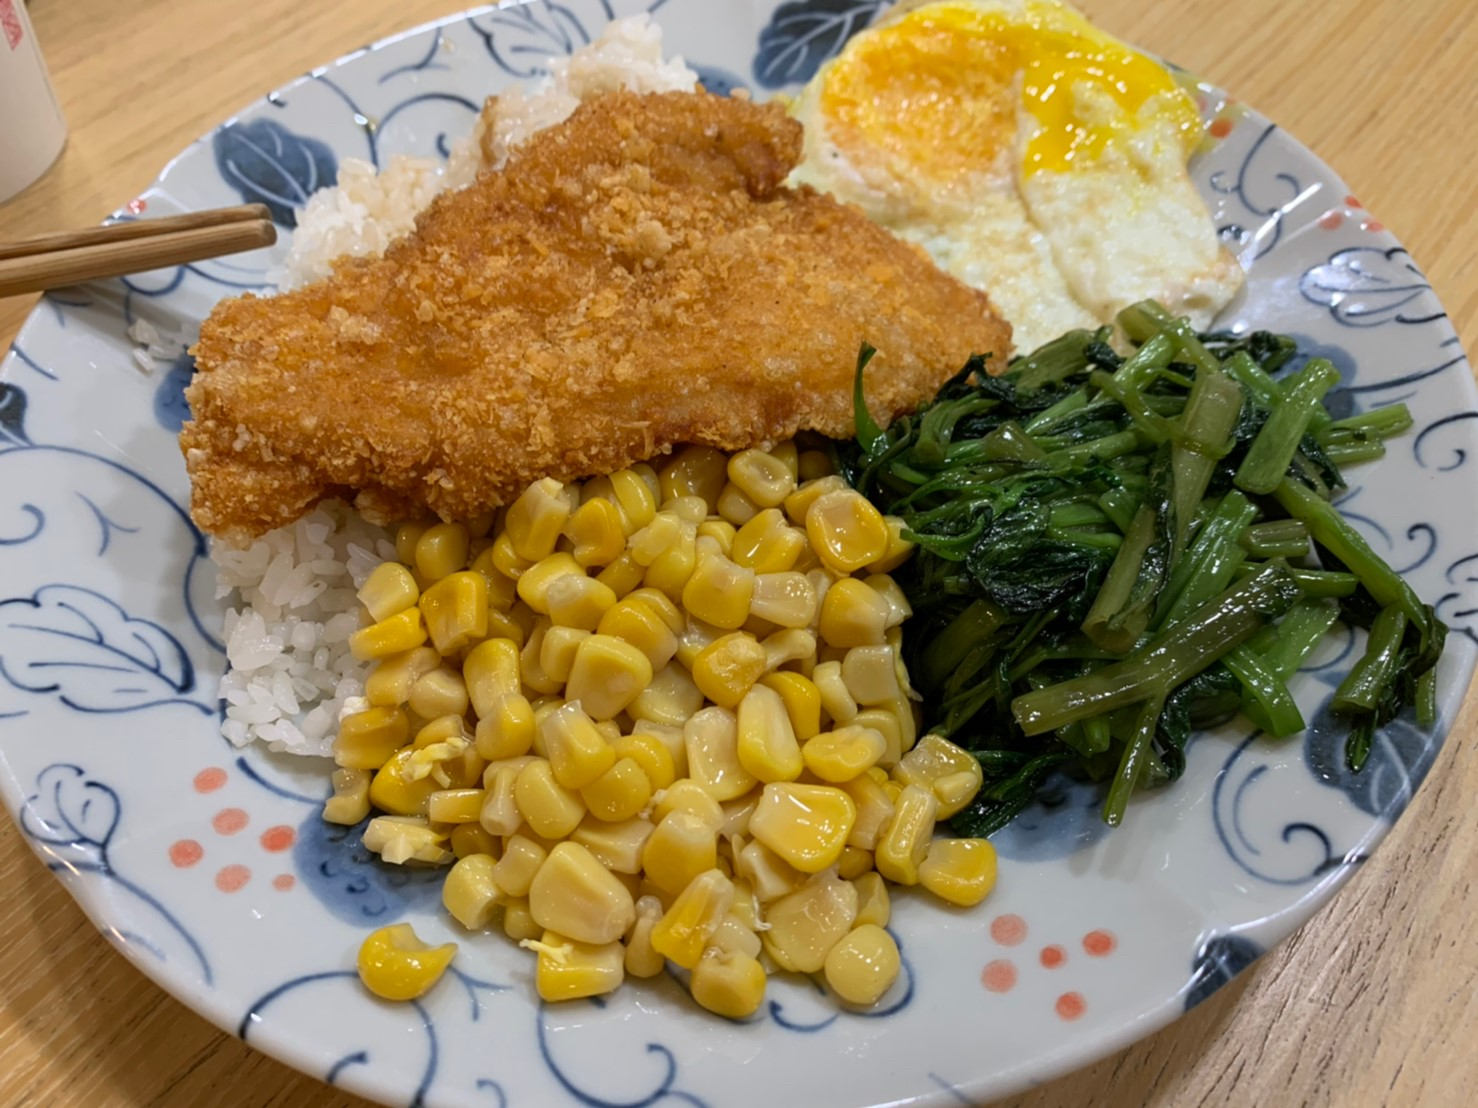fried_chicken: (190, 84, 1019, 542)
fried_eggs: (793, 1, 1229, 312)
water_spinach: (901, 331, 1427, 748)
